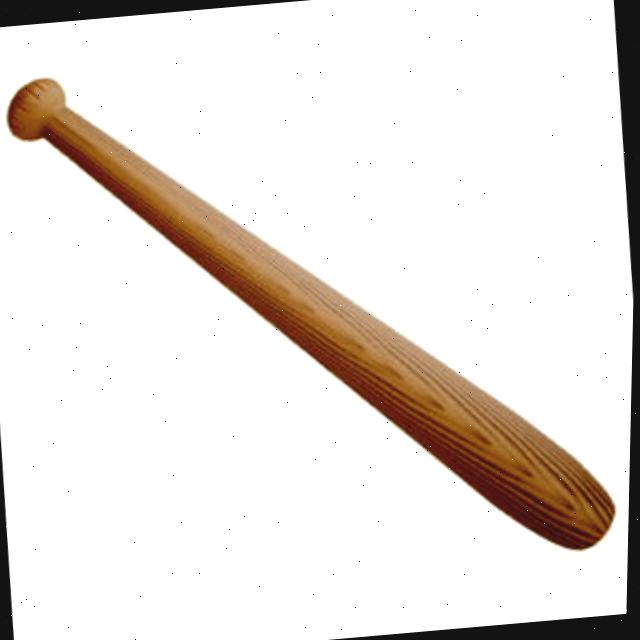baseball bat: (0, 27, 631, 596)
